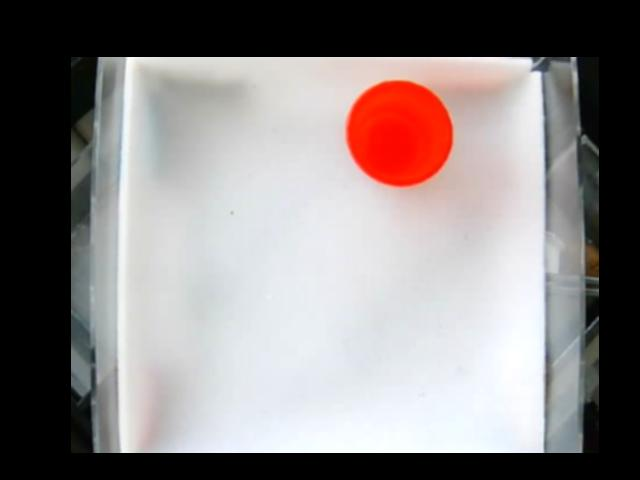Cup: (344, 79, 453, 191)
